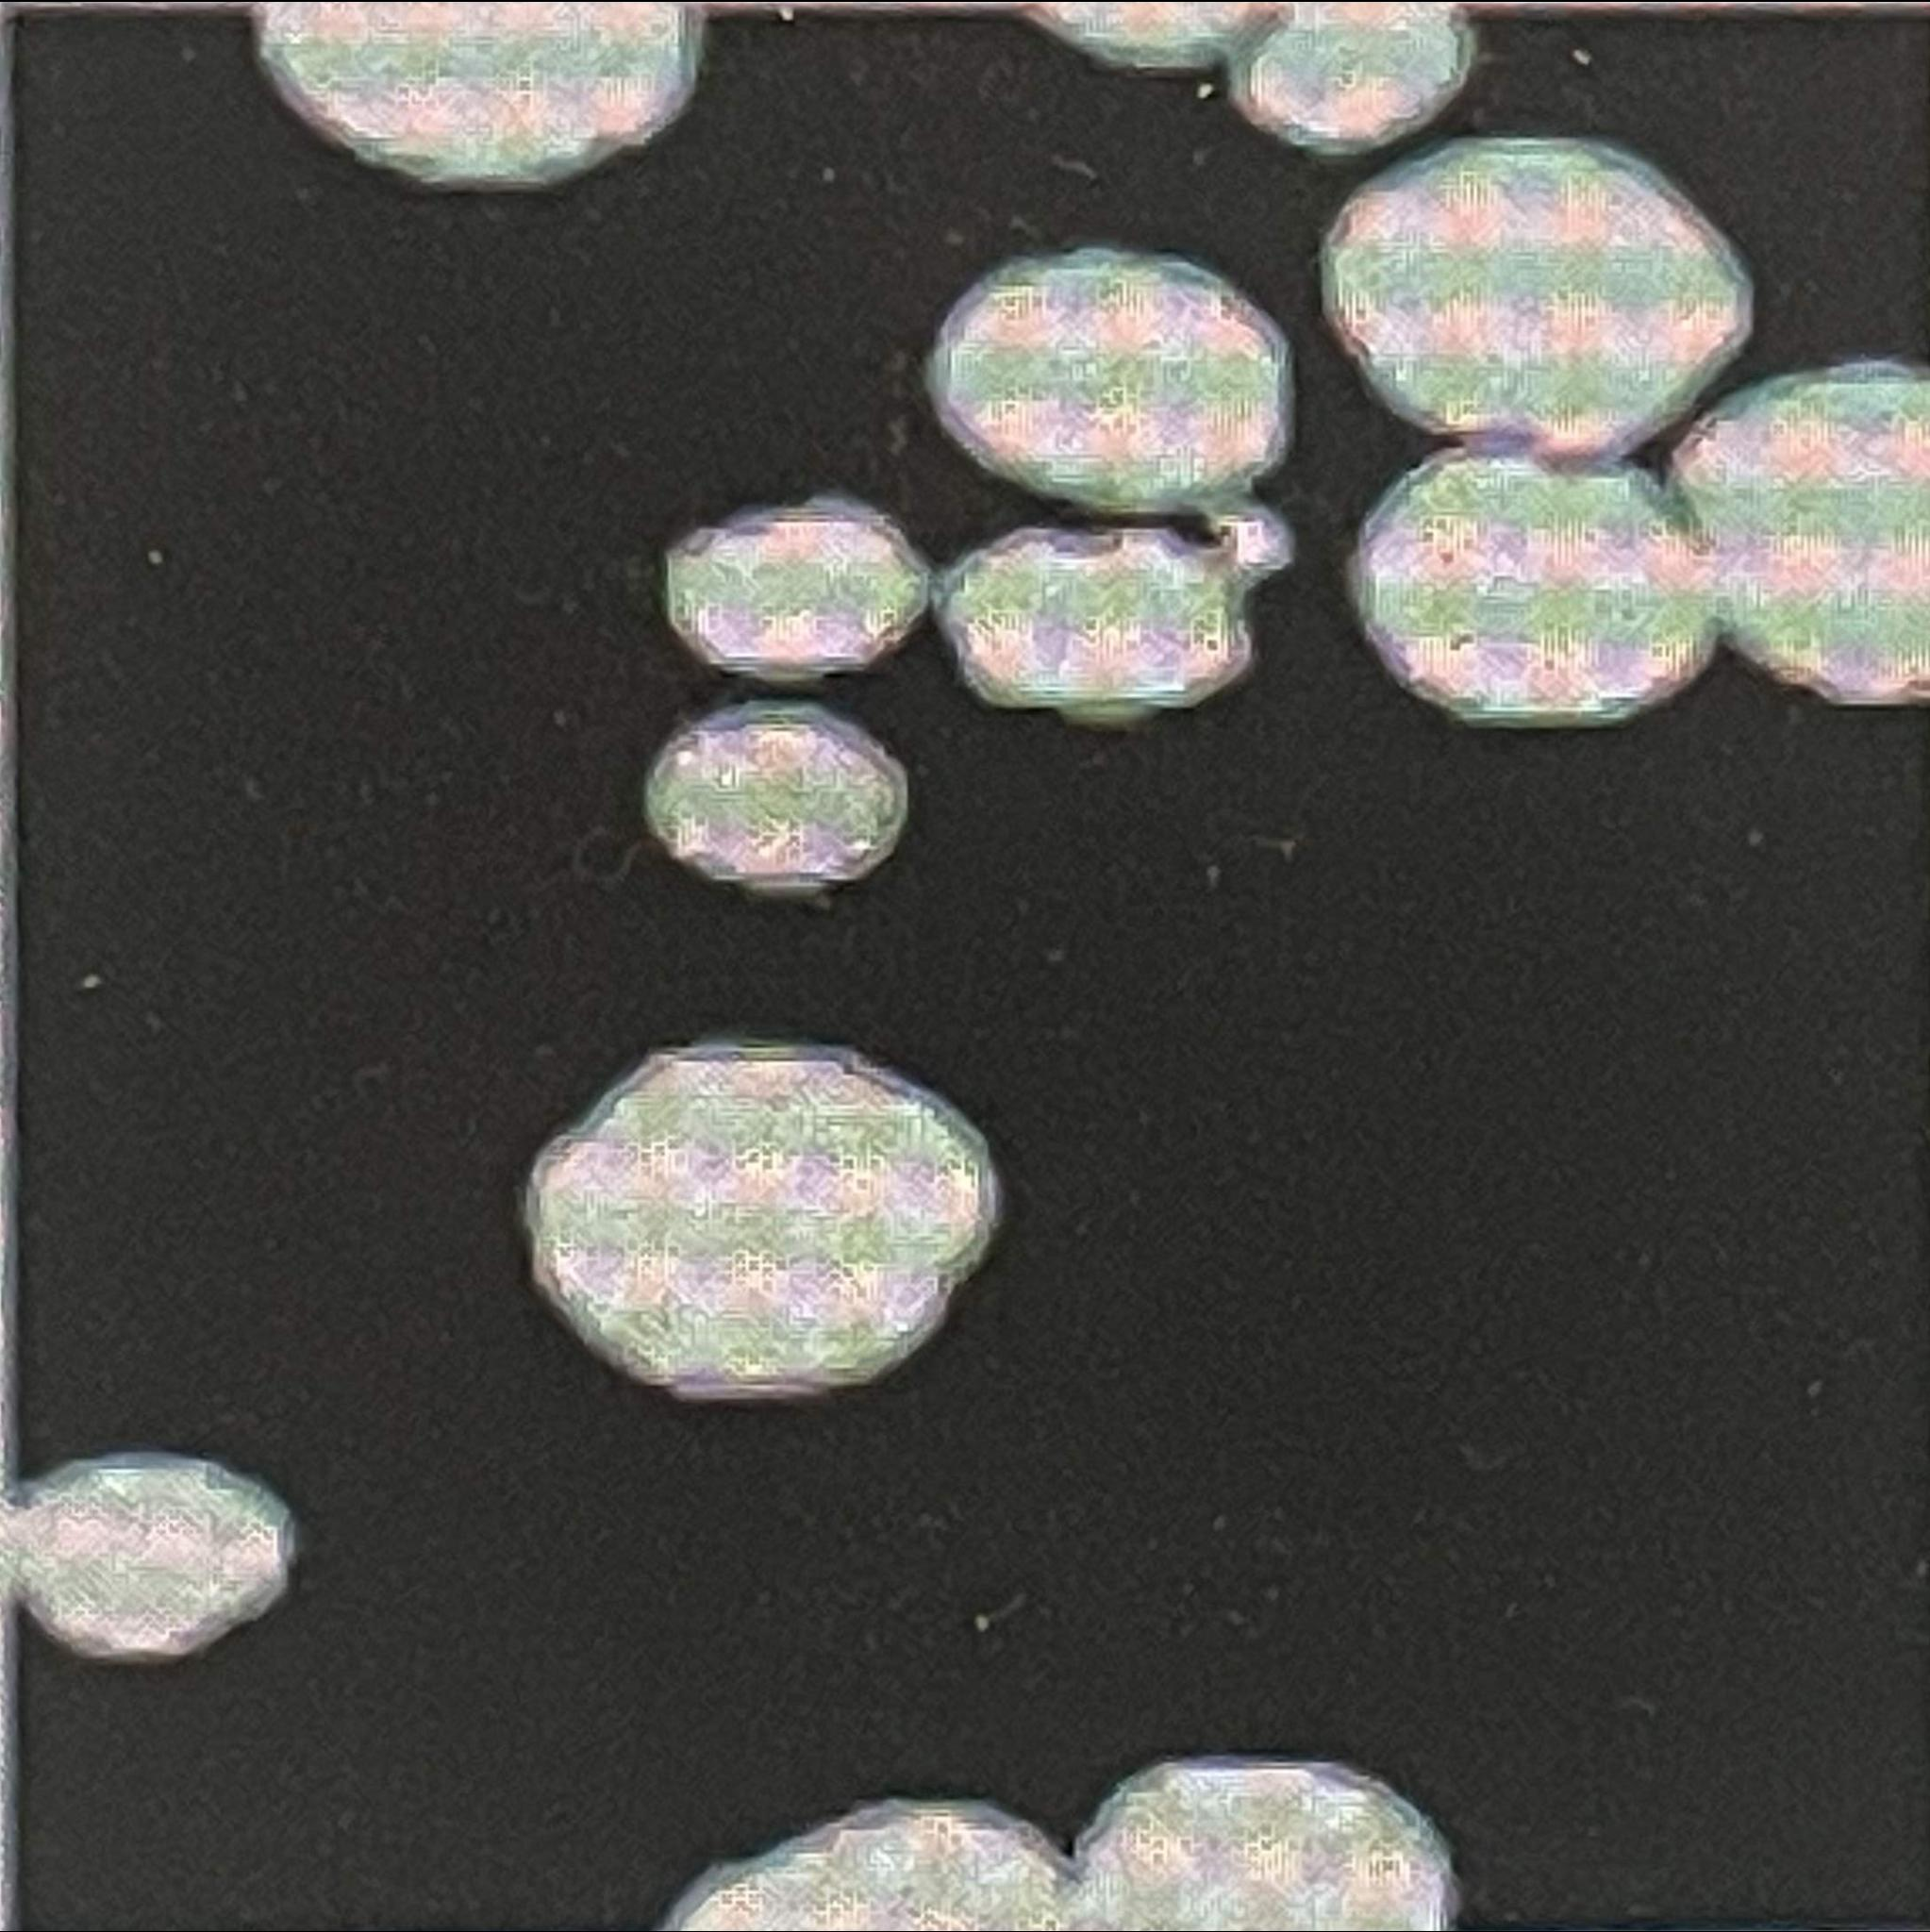cell: (1352, 359, 1930, 723), (928, 242, 1296, 721), (523, 1043, 1002, 1398), (1324, 134, 1757, 451), (656, 1761, 1460, 1930), (251, 2, 702, 184), (1018, 2, 1478, 150), (0, 1453, 292, 1662), (643, 700, 908, 887), (665, 495, 931, 675)
